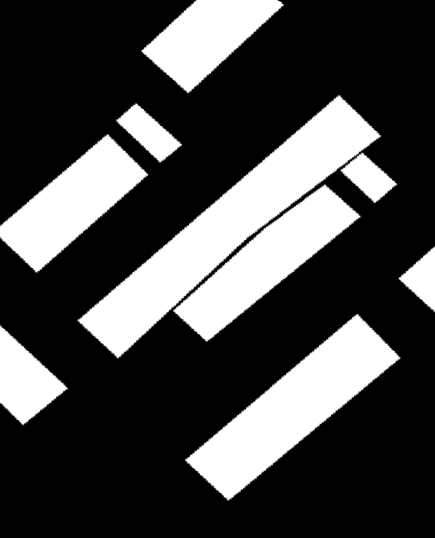parkingspot: (77, 95, 397, 358), (185, 314, 400, 500), (173, 185, 361, 341), (0, 134, 148, 272), (141, 0, 284, 93), (0, 326, 68, 425), (116, 103, 182, 162), (399, 247, 435, 312)
